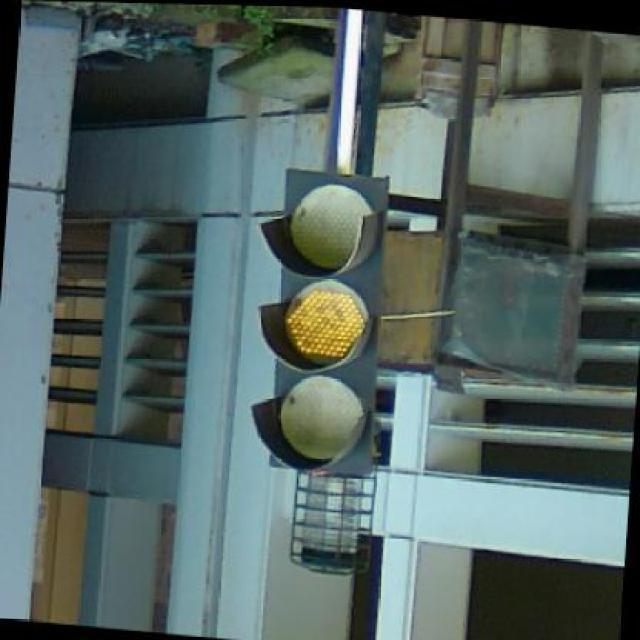yellow_light: (252, 169, 388, 479)
